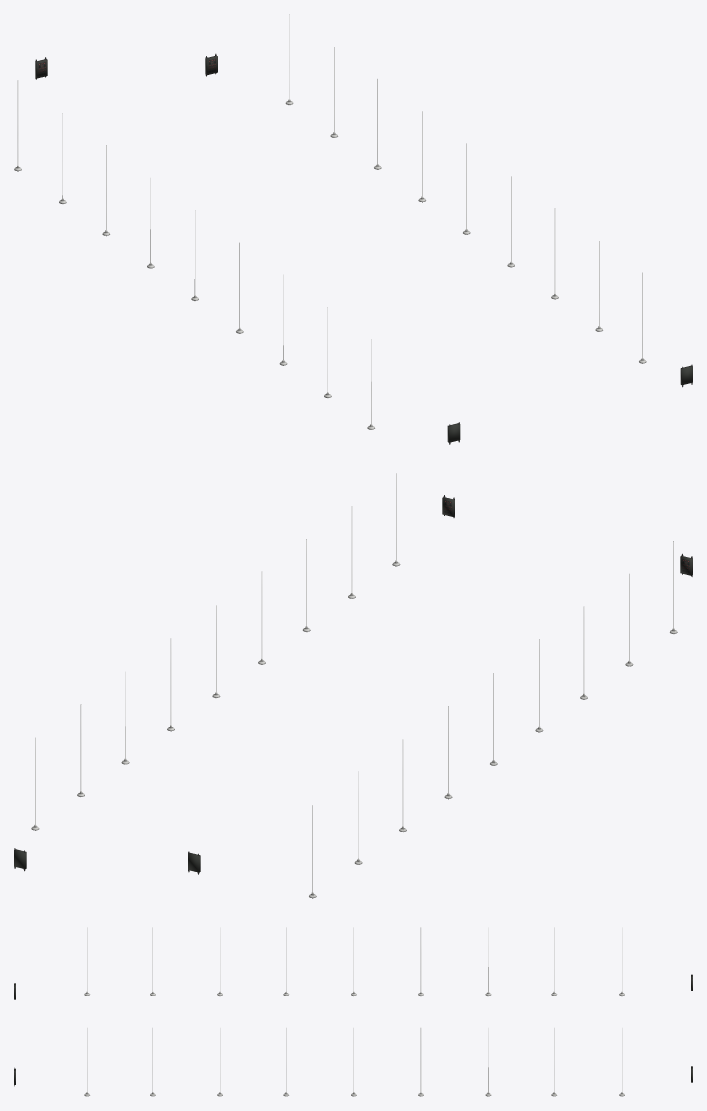
File: Lamp.FBX
The picture shows the model from 3 angles, top to bottom: view 1: azimuth 30°, elevation 25°; view 2: azimuth 150°, elevation 25°; view 3: azimuth 270°, elevation 25°; orthographic projection. The views are drawn at different scales.
Visible parts, largest first — view 1: Lamp; view 2: Lamp; view 3: Lamp.
Part boxes in pixels (box(x1,y1,x2,y2)): Lamp: box(14, 14, 692, 444); Lamp: box(14, 473, 692, 898); Lamp: box(14, 927, 692, 1096).
Size of the model in its own units: 2336 by 729 by 6517.
